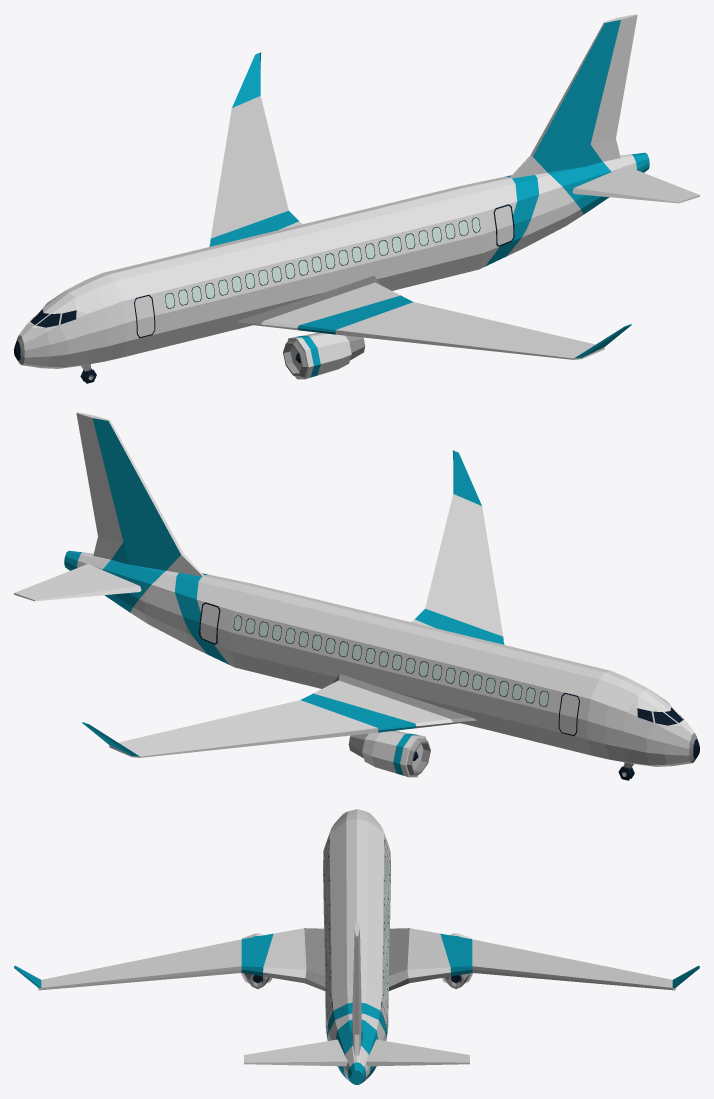
File: low-poly-airplane.glb
3 views of the same model, one above another, from view 1: azimuth 30°, elevation 25°; view 2: azimuth 150°, elevation 25°; view 3: azimuth 270°, elevation 25° (orthographic). The views are drawn at different scales.
Parts seen in each view (by area): view 1: Cube; view 2: Cube; view 3: Cube.
Part boxes in pixels (<box>): Cube: <box>14,14,699,379</box>; Cube: <box>14,412,699,777</box>; Cube: <box>14,809,699,1084</box>.
Bounding box in the file's own units: 2.01 × 0.7214 × 2.05.
